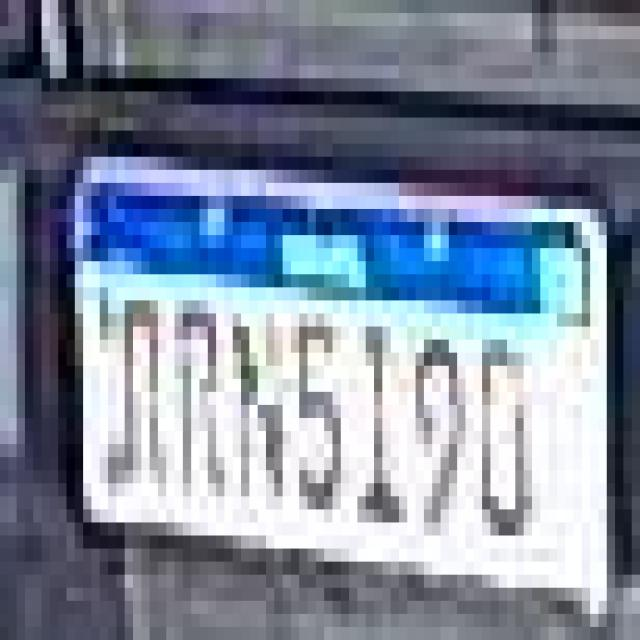0: (473, 337, 538, 538)
5: (287, 303, 349, 516)
9: (407, 330, 471, 544)
I: (350, 317, 407, 533)
N: (226, 309, 288, 509)
R: (104, 278, 168, 510), (171, 296, 226, 504)
